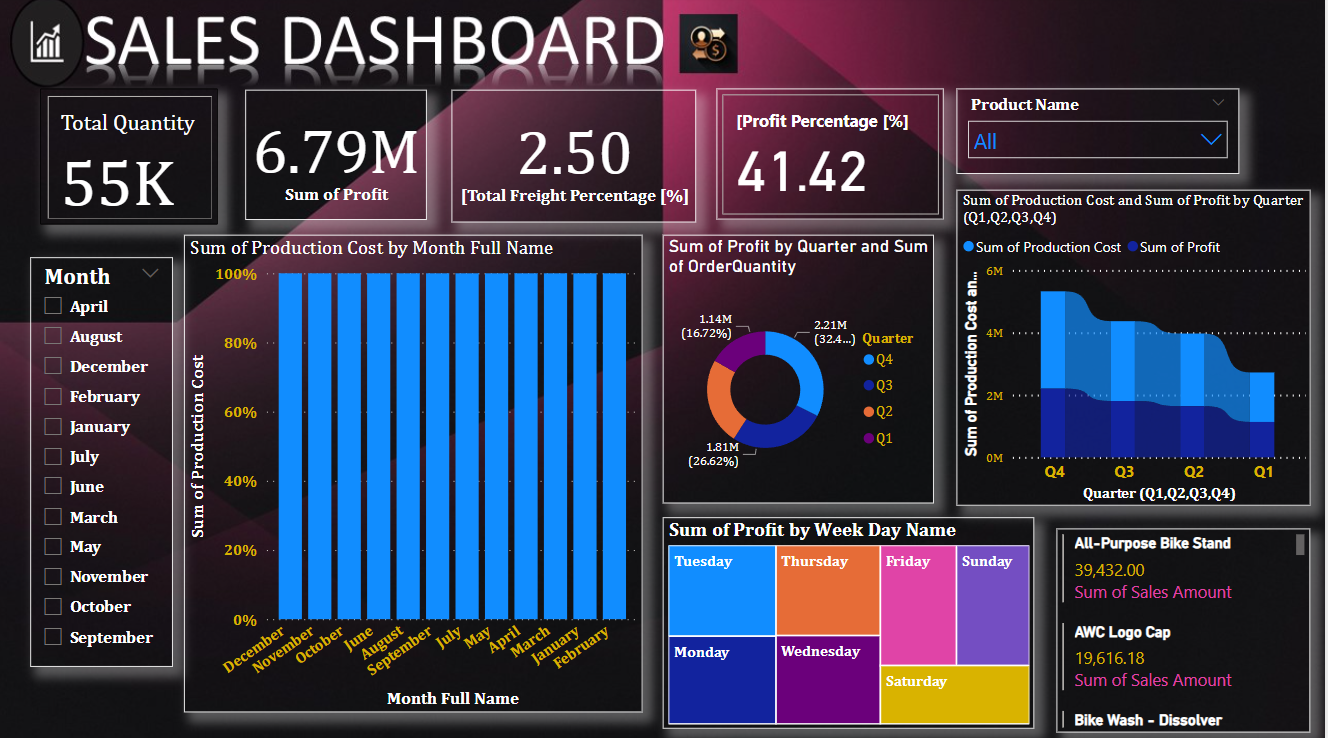

The dashboard page shown, as its layout file describes it:
{"tool":"powerbi","page":{"name":"Page 1","canvas":[1280,720],"ordinal":0},"visuals":[{"type":"slicer","fields":{"Values":["Month Wise Sales.Month"]},"box":[30.2,252.1,137.5,395.6],"z":0},{"type":"donutChart","fields":{"Category":["Quarter Wise Sales.Quarter"],"Series":["Quarter Wise Sales.Sum of OrderQuantity"],"Y":["Sum(Sheet1.Profit)"]},"box":[640.4,230.4,261.7,259.3],"z":1000},{"type":"cardVisual","fields":{"Data":["Month Wise Sales.Total Quantity"]},"box":[39.8,89.2,171.3,131.5],"z":2000},{"type":"multiRowCard","fields":{"Values":["Sheet1.Product Name","Sum(Sheet1.Sales Amount)"]},"box":[1020.3,513.8,244.8,196.6],"z":3000},{"type":"cardVisual","fields":{"Data":["Sheet1.[Profit Percentage [%]"]},"box":[692.3,89.2,219.5,126.6],"z":4000},{"type":"treemap","fields":{"Values":["Sum(Sheet1.Profit)"],"Group":["Sheet1.Week Day Name"]},"box":[640.4,502.9,358.2,203.8],"z":5000},{"type":"hundredPercentStackedColumnChart","fields":{"Y":["Sum(Sheet1.Production Cost)"],"Category":["Sheet1.Month Full Name"]},"box":[178.5,230.4,442.6,460.7],"z":6000},{"type":"ribbonChart","fields":{"Category":["Sheet1.Quarter (Q1,Q2,Q3,Q4)"],"Y":["Sum(Sheet1.Production Cost)","Sum(Sheet1.Profit)"]},"box":[923.8,186.9,341.3,305.1],"z":7000},{"type":"card","fields":{"Values":["Sum(Sheet1.Profit)"]},"box":[237.6,90.5,174.9,125.4],"z":8000},{"type":"card","fields":{"Values":["Sheet1.[Freight Percentage [%]"]},"box":[436.6,90.5,236.4,127.8],"z":9000},{"type":"slicer","fields":{"Values":["Sheet1.Product Name"]},"box":[923.8,89.2,272.6,82],"z":10000}]}

Visuals, with their boxes in screenshot pixels (x1, y1, x2, y2), scaled from the page's 1280x720 canvas onto the 1328x738 screenshot:
slicer - Month Wise Sales.Month: (left=31, top=258, right=174, bottom=664)
donutChart - Quarter Wise Sales.Quarter x Quarter Wise Sales.Sum of OrderQuantity: (left=664, top=236, right=936, bottom=502)
cardVisual - Month Wise Sales.Total Quantity: (left=41, top=91, right=219, bottom=226)
multiRowCard - Sheet1.Product Name x Sum(Sheet1.Sales Amount): (left=1059, top=527, right=1313, bottom=728)
cardVisual - Sheet1.[Profit Percentage [%]: (left=718, top=91, right=946, bottom=221)
treemap - Sum(Sheet1.Profit) x Sheet1.Week Day Name: (left=664, top=515, right=1036, bottom=724)
hundredPercentStackedColumnChart - Sum(Sheet1.Production Cost) x Sheet1.Month Full Name: (left=185, top=236, right=644, bottom=708)
ribbonChart - Sheet1.Quarter (Q1,Q2,Q3,Q4) x Sum(Sheet1.Production Cost): (left=958, top=192, right=1313, bottom=504)
card - Sum(Sheet1.Profit): (left=247, top=93, right=428, bottom=221)
card - Sheet1.[Freight Percentage [%]: (left=453, top=93, right=698, bottom=224)
slicer - Sheet1.Product Name: (left=958, top=91, right=1241, bottom=175)
